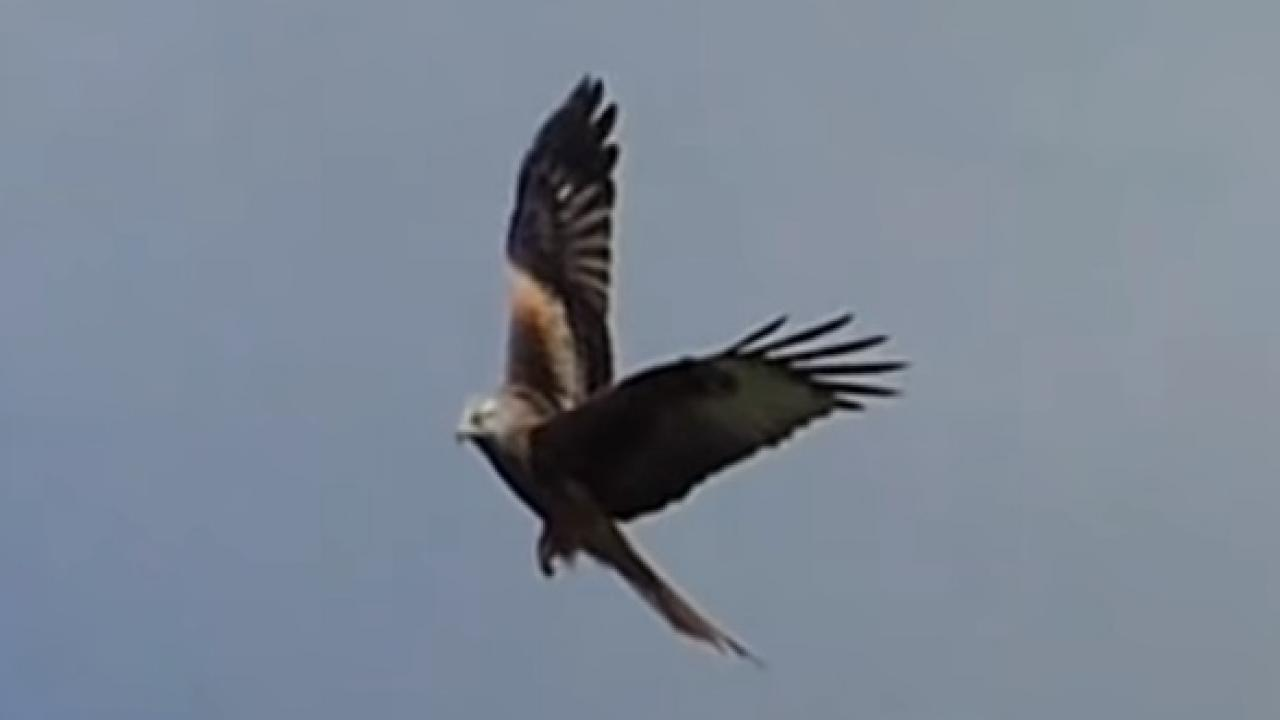Bird: (445, 65, 920, 675)
